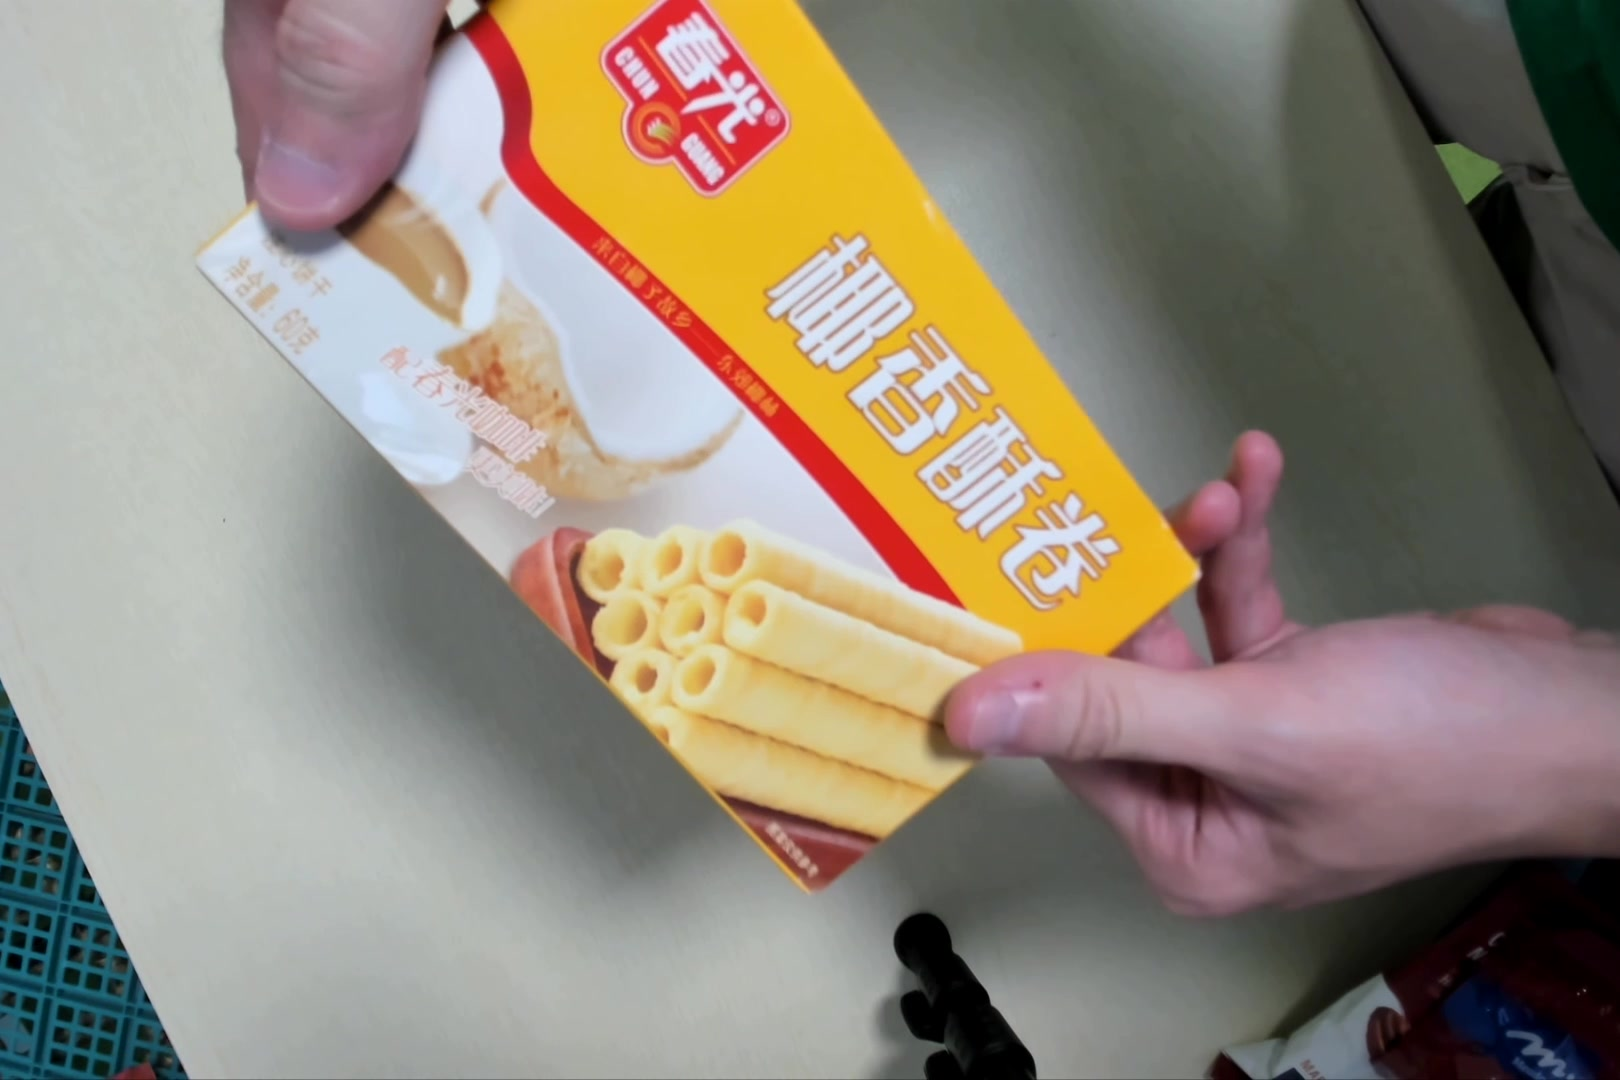BiscuitsCrackersCookies_0-99g_NonHalal_NonHealthy: (210, 7, 1208, 890)
